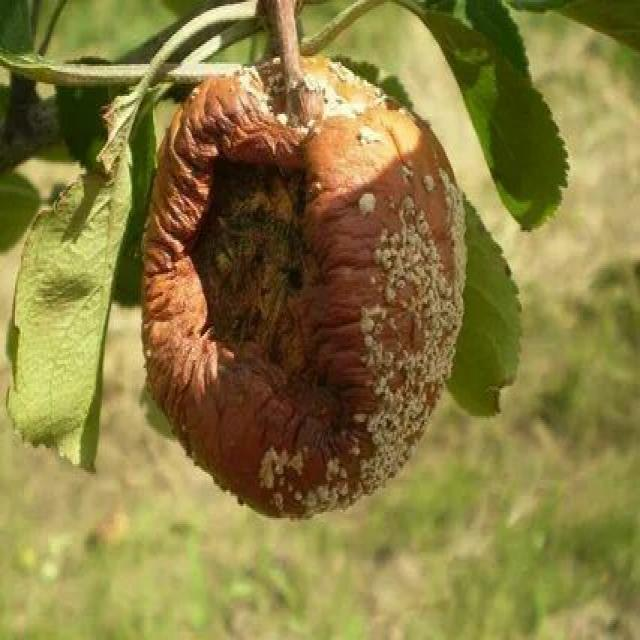Rotten: (107, 73, 495, 547)
